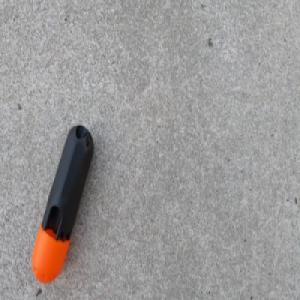PlasticPart: (30, 124, 95, 285)
